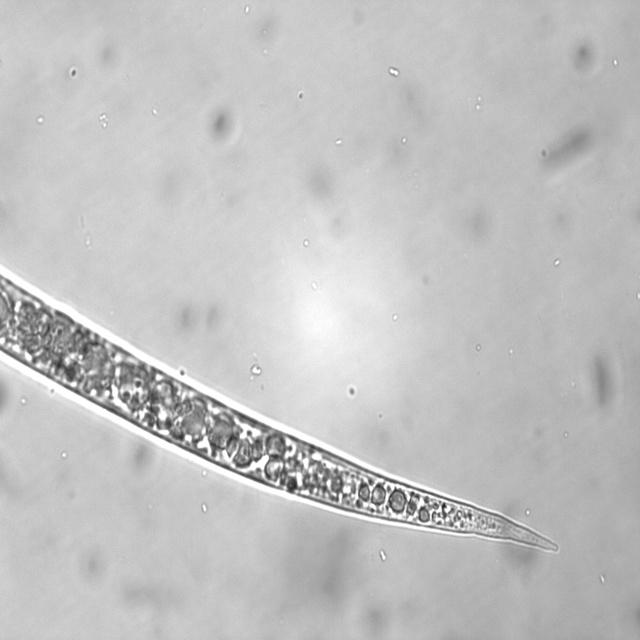Meloidogyne: (0, 264, 562, 561)
